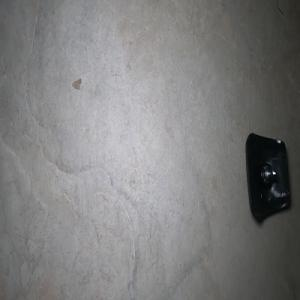LuggagePart: (244, 131, 291, 222)
